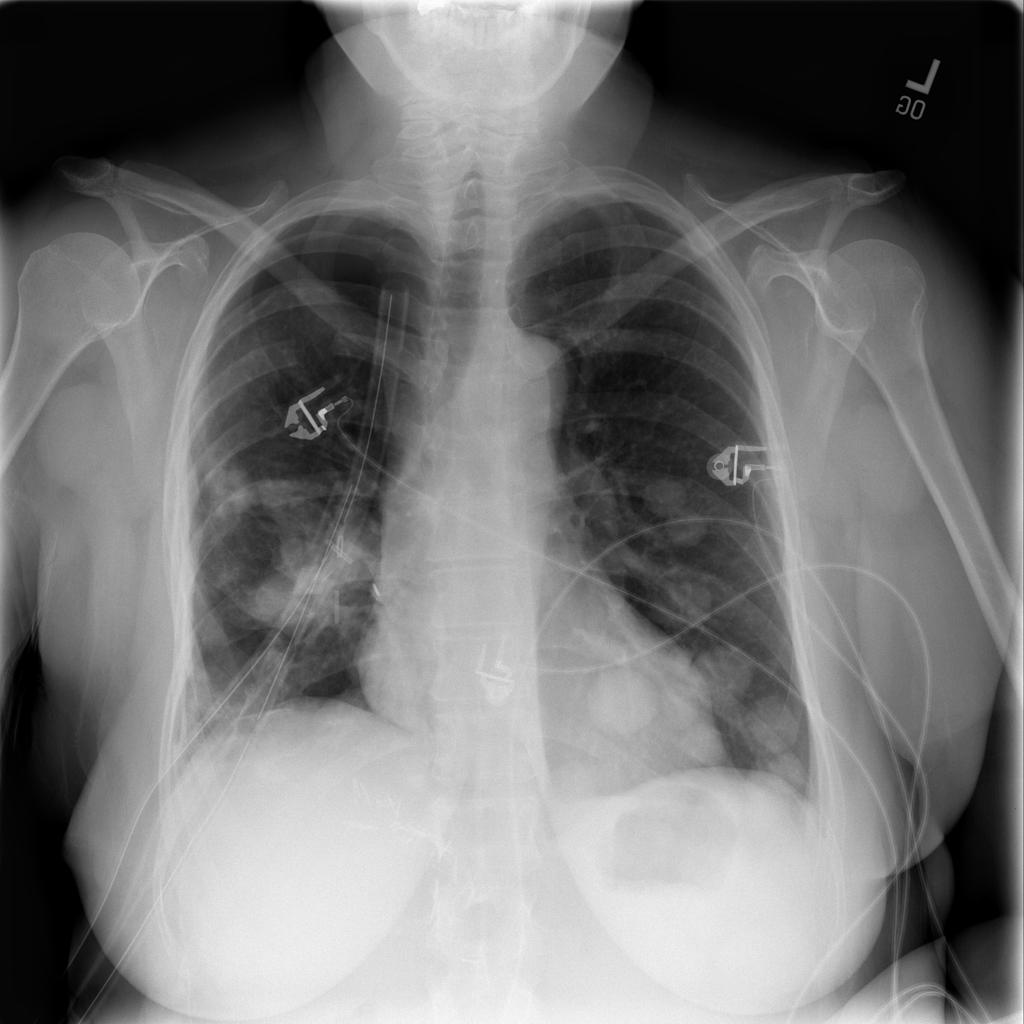nodule: (231, 516, 364, 647), (582, 665, 664, 738), (643, 569, 725, 640), (736, 685, 811, 759), (682, 635, 758, 708), (643, 470, 713, 547), (664, 714, 737, 783), (745, 738, 820, 804)
